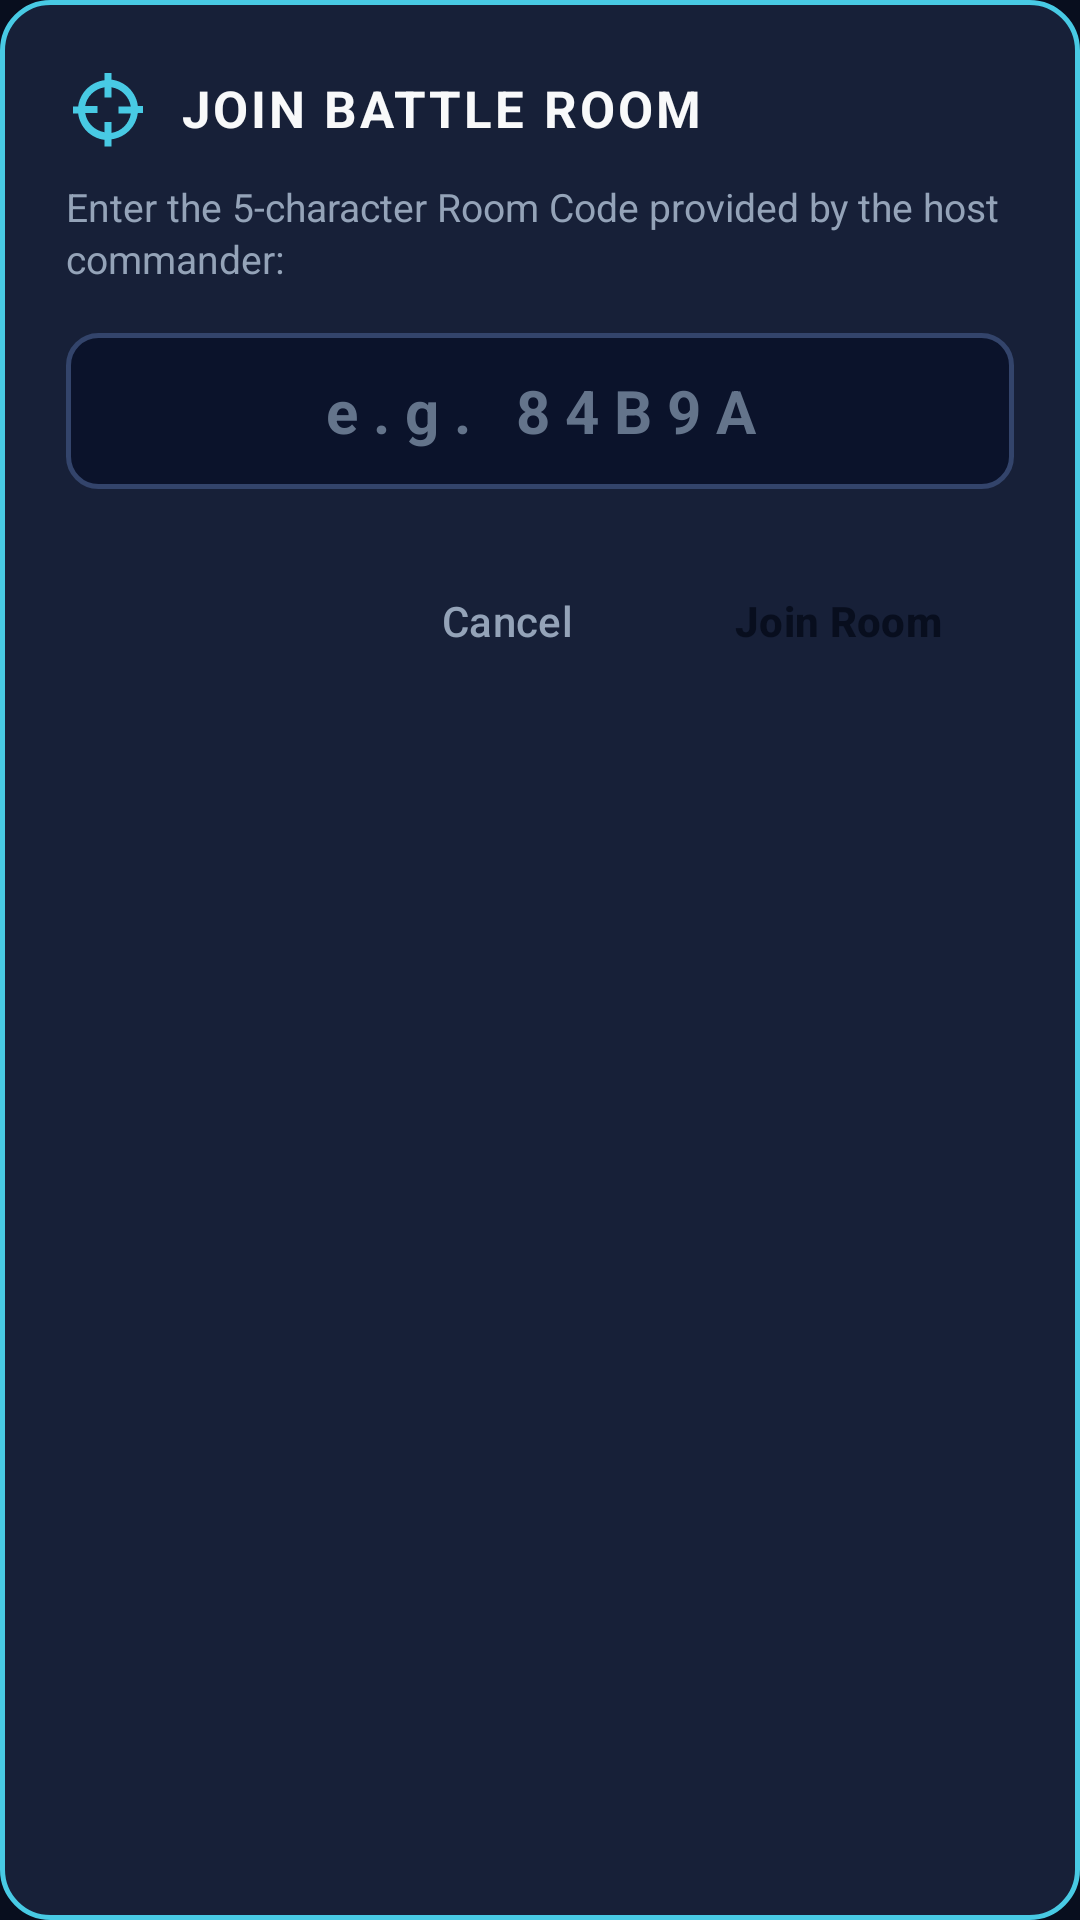

Where to tap for icons on this 1080px×1920px app screen, as (x,y):
crosshair: (108,110)
